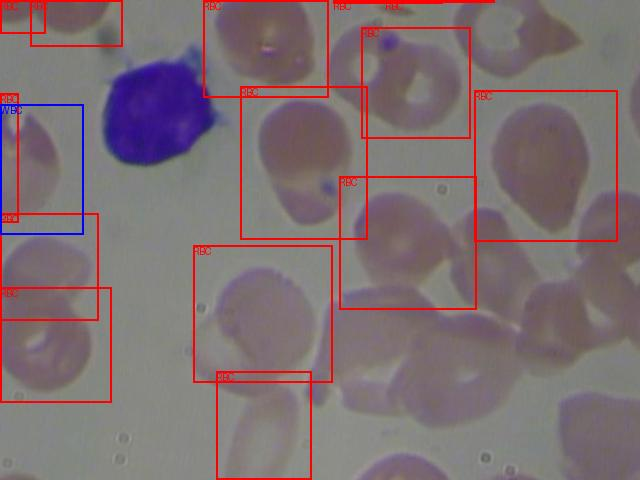RBC: (474, 90, 617, 241), (240, 86, 367, 239), (193, 245, 332, 382), (339, 176, 476, 309), (0, 287, 111, 402), (203, 0, 328, 97), (361, 27, 470, 138), (0, 213, 98, 320), (216, 371, 311, 479), (30, 0, 122, 46), (0, 93, 18, 222), (0, 0, 45, 33), (333, 0, 442, 3), (385, 0, 494, 2)
WBC: (0, 104, 83, 234)
